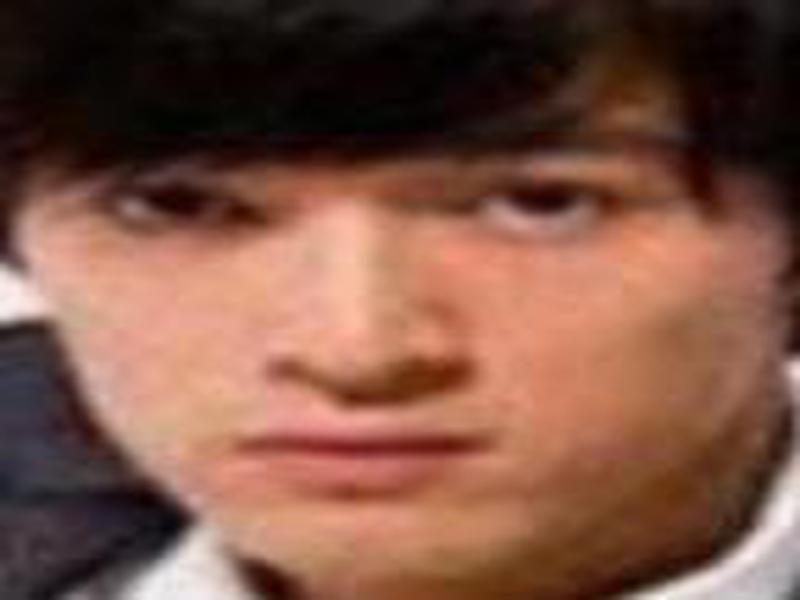without_mask: (21, 106, 774, 585)
